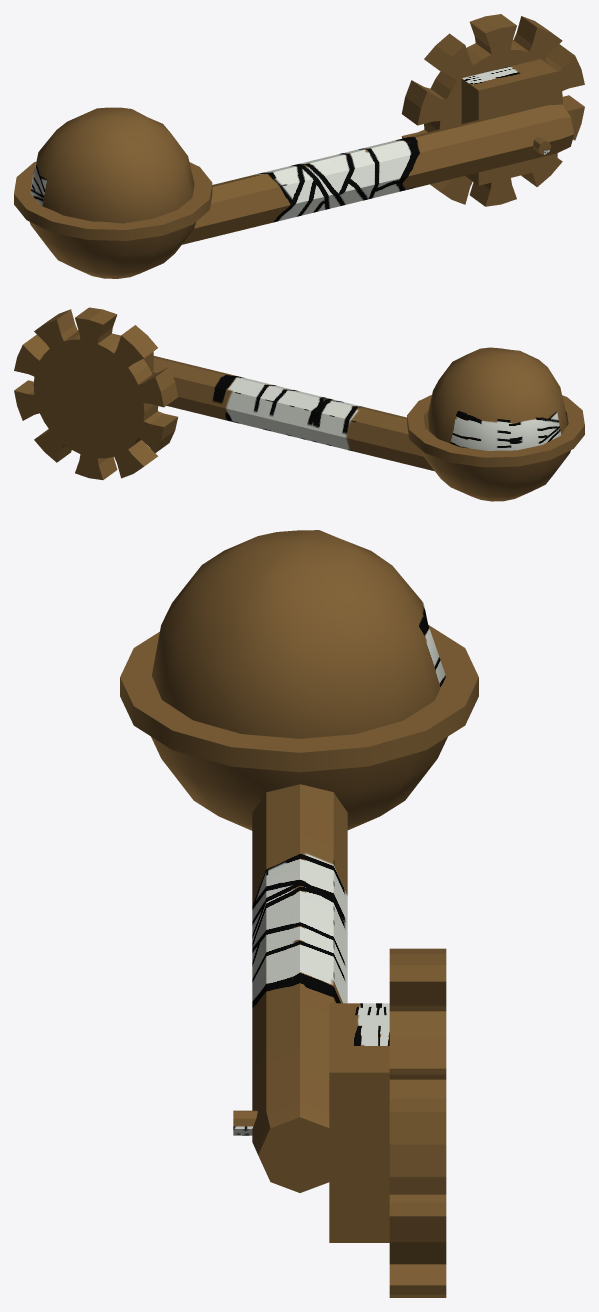
Rendered from turret_2_1.glb.
3 views of the same model, one above another, from view 1: azimuth 30°, elevation 25°; view 2: azimuth 150°, elevation 25°; view 3: azimuth 270°, elevation 25° (orthographic). The views are drawn at different scales.
Parts seen in each view (by area): view 1: Gear, Bullet1; view 2: Gear, Bullet1; view 3: Gear, Bullet1.
Boxes of the visible parts, x1,y1,x2,y2 form: Gear: (14, 14, 584, 278); Bullet1: (30, 107, 194, 223); Gear: (14, 307, 584, 501); Bullet1: (427, 347, 567, 450); Gear: (120, 625, 478, 1297); Bullet1: (152, 530, 445, 738).
Size of the model in its own units: 4.4 by 1.5 by 1.31.
4 materials, 4 textured.
